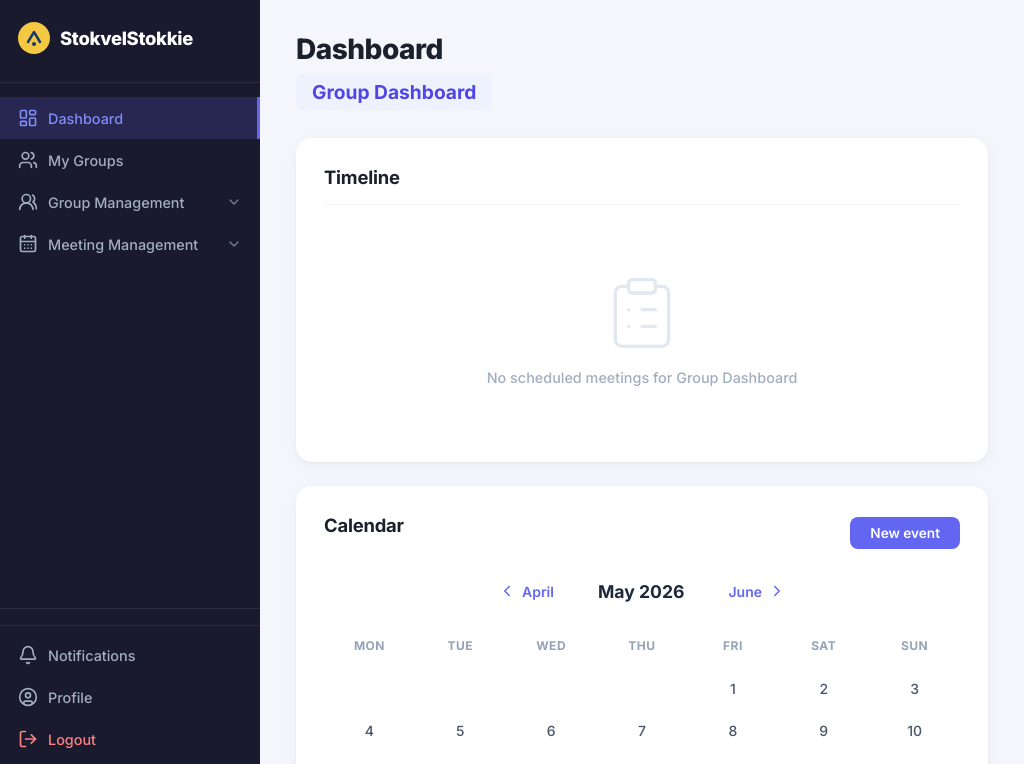
Test case: AdminDashboard Component › covers empty state branch when group has no members
Click the button "Group Management": (130, 202) left=0, top=181, right=260, bottom=223
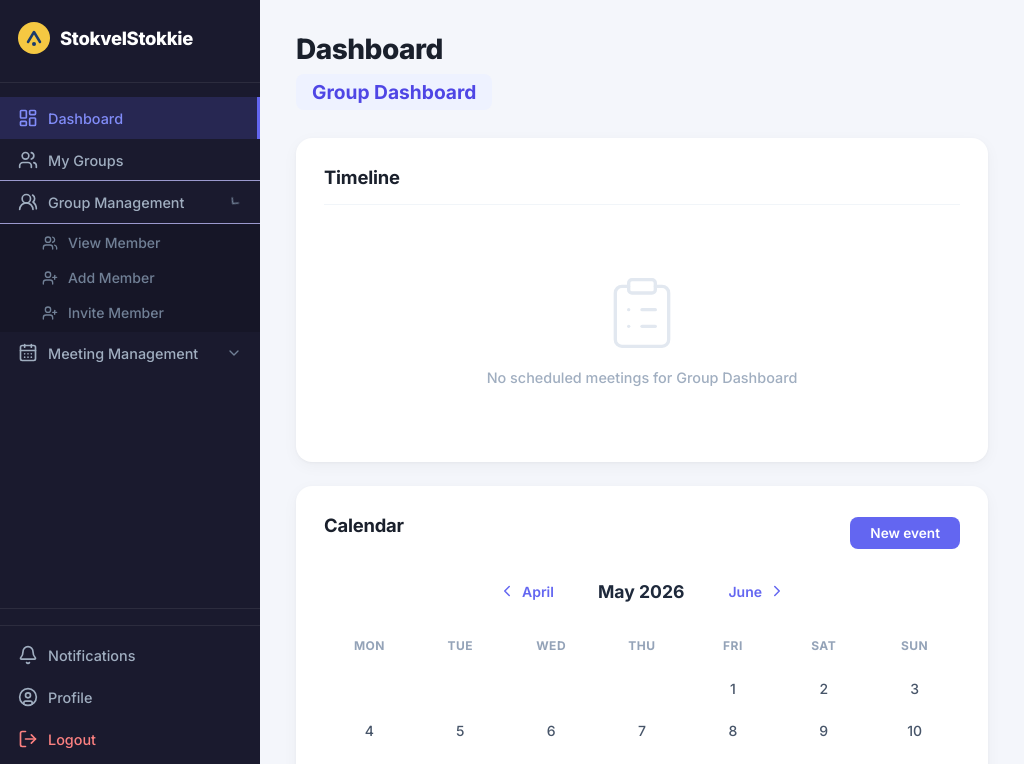
Click the button "View Member": (130, 242) left=0, top=225, right=260, bottom=260
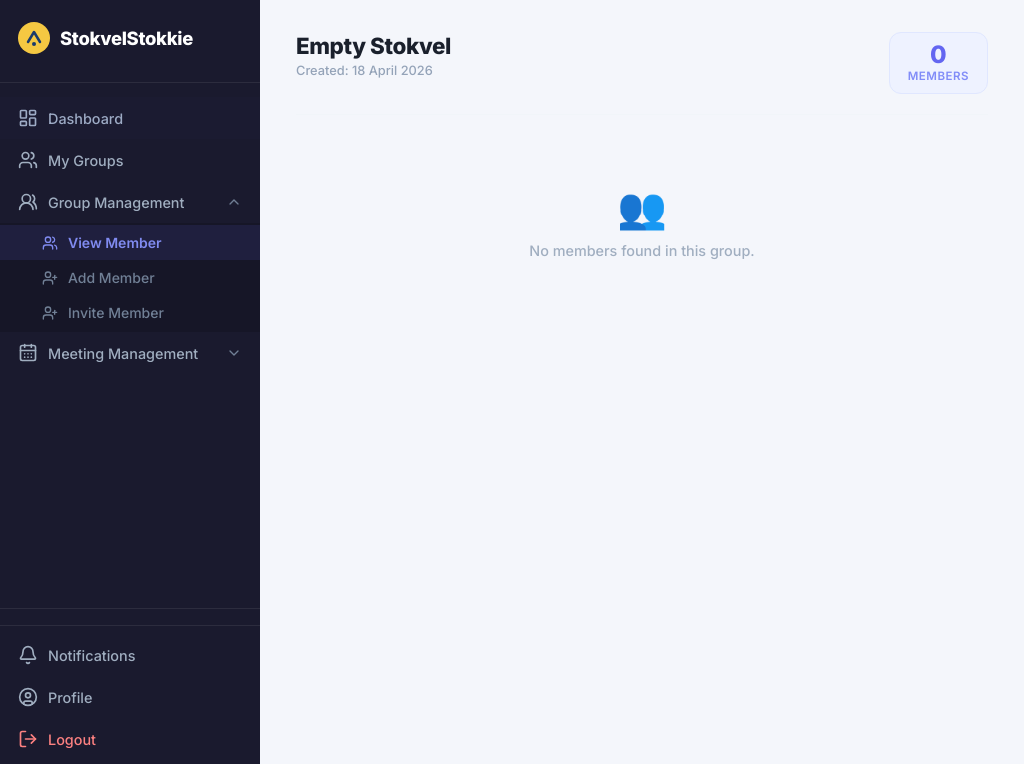
Expected: the text "No members found in this group." is shown, left=529, top=242, right=755, bottom=259
